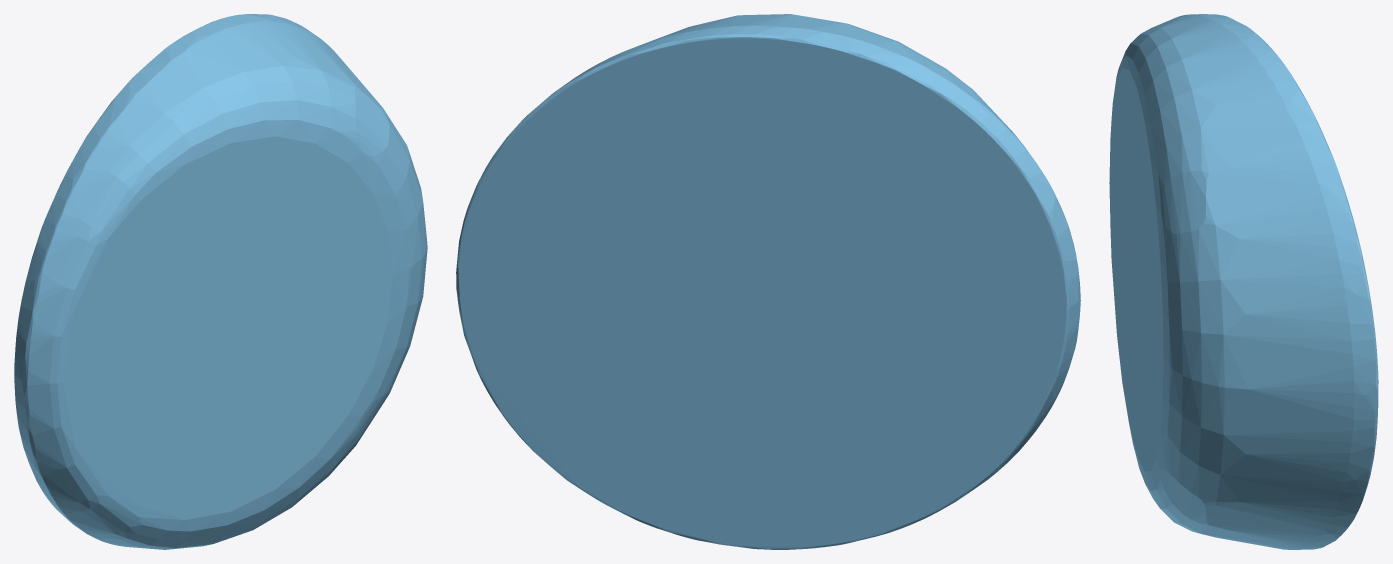
File: industrial_06397_link_respondable_respondable_respondable_respondable_respondable_visual_vis_3.dae
The picture shows the model from 3 angles, left to right: view 1: azimuth 30°, elevation 25°; view 2: azimuth 150°, elevation 25°; view 3: azimuth 270°, elevation 25°; orthographic projection. The views are drawn at different scales.
Visible parts, largest first — view 1: node; view 2: node; view 3: node.
Part boxes in pixels (x1,y1,x2,y2): node: (14,14,427,549); node: (456,14,1080,549); node: (1109,14,1378,549).
Bounding box in the file's own units: 0.12 × 0.12 × 0.0602.
